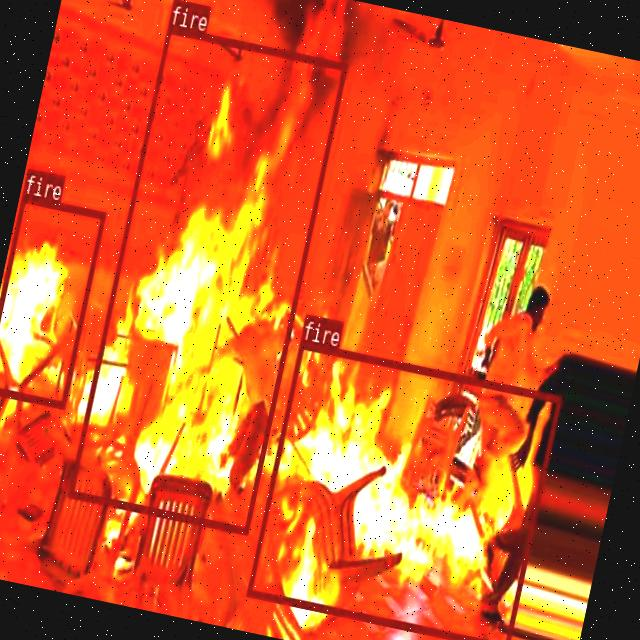fire: (67, 23, 347, 534), (244, 338, 561, 640), (0, 193, 105, 408)
